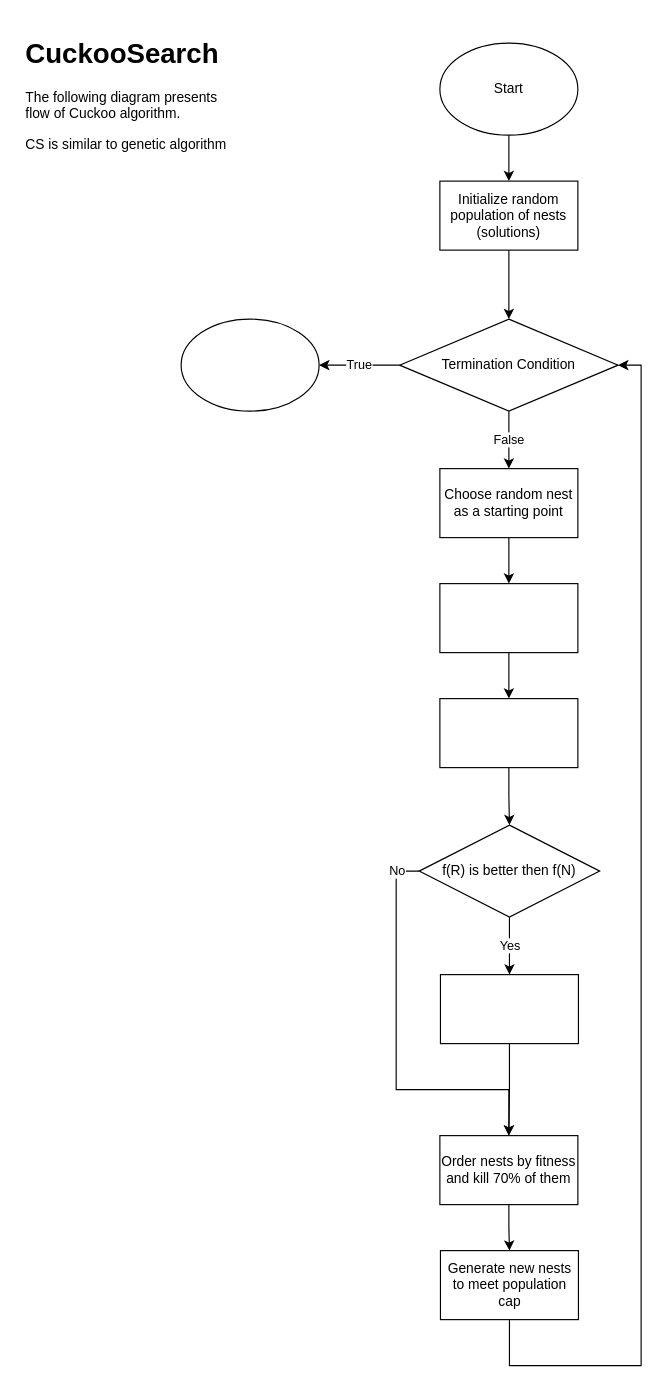
Image size: 670x1395. Some labels were removed from this diagram. Here are the shapes that lost their labels. From the top down, the box of each, then its label:
(180, 318, 319, 411): Return best nest
(439, 582, 578, 653): Perform random walk from chosen point and store in R
(439, 697, 578, 768): Choose random nest N
(439, 973, 578, 1044): N = R
